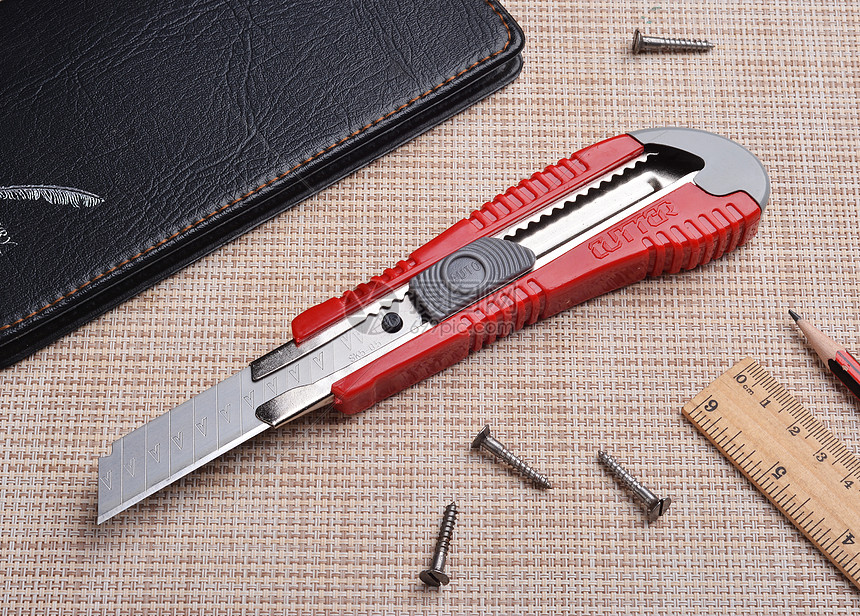cutter: (91, 122, 772, 526)
